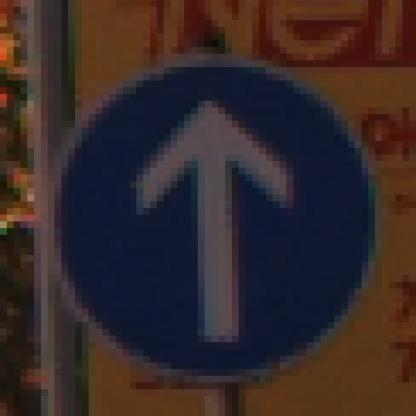AheadOnly: (42, 41, 383, 377)
